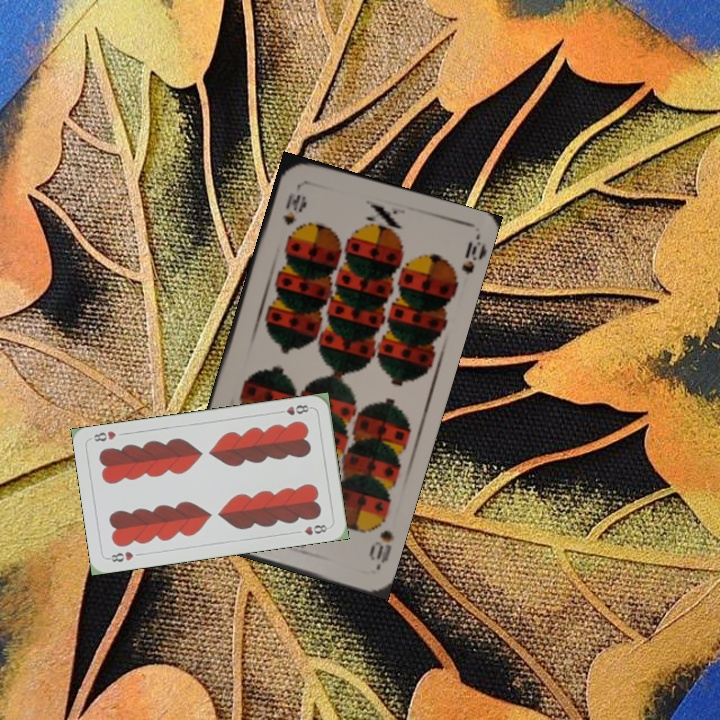H8: (273, 401, 314, 418), (104, 547, 136, 564)
S10: (364, 526, 397, 571), (278, 181, 306, 228)
